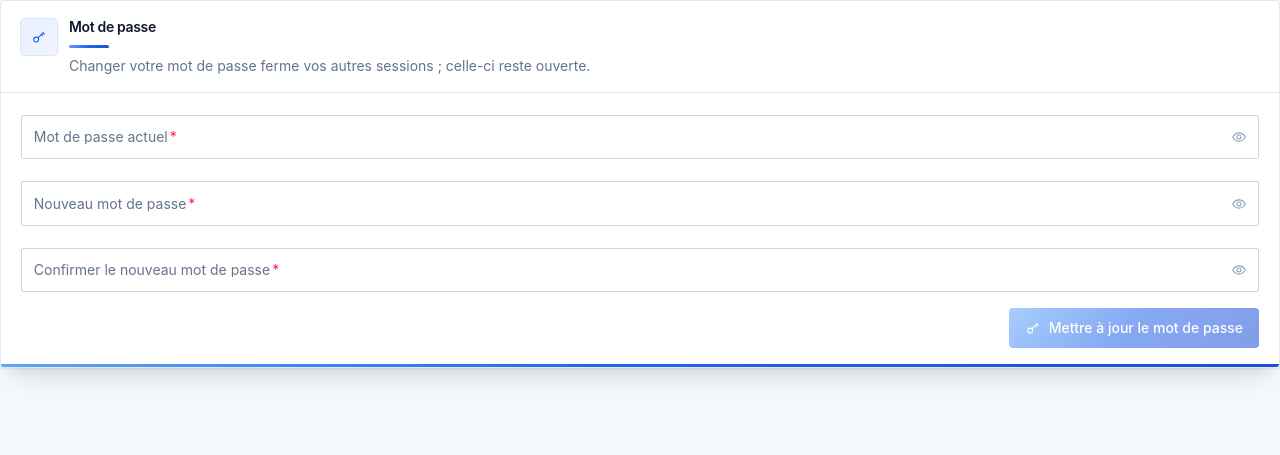
PasswordCard › exige l'ancien mot de passe et la confirmation
In the password field labelled "Mot de passe actuel*": x=640, y=137 [21, 115, 1259, 159], type "ancien-mot-de-passe"
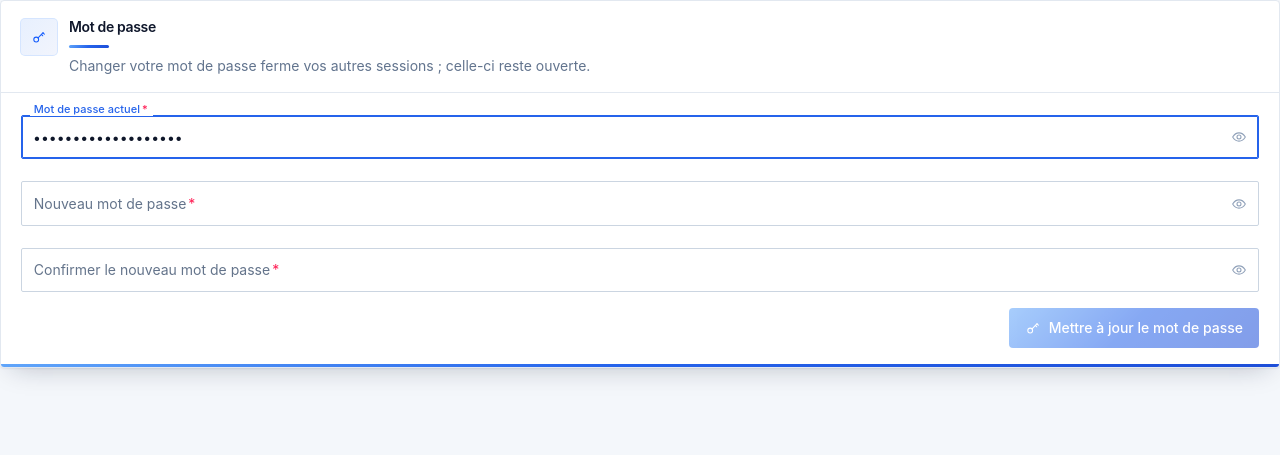
In the password field labelled "Nouveau mot de passe*": x=640, y=204 [21, 182, 1259, 226], type "nouveau-mot-de-passe"
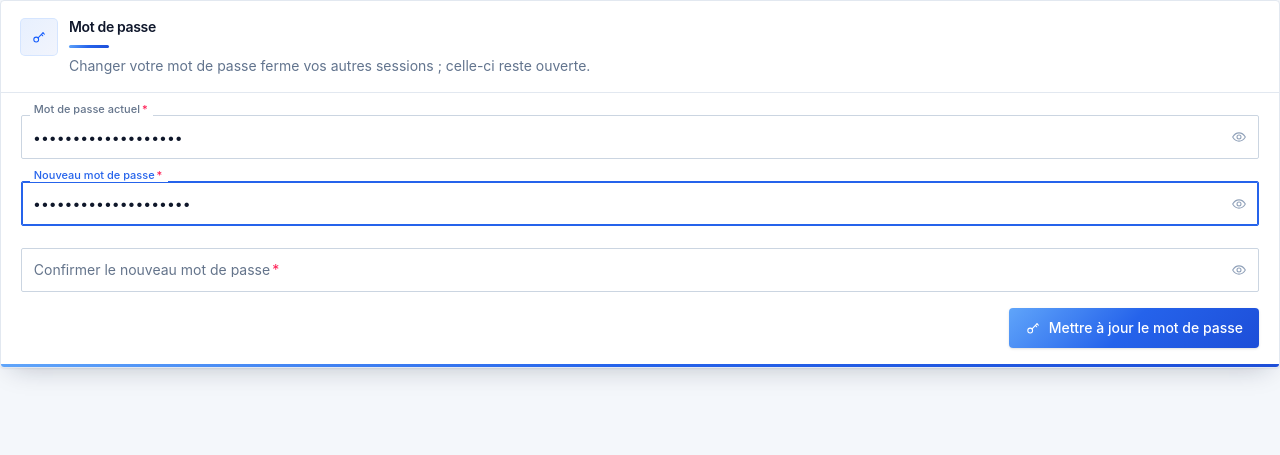
In the password field labelled "Confirmer le nouveau mot de passe*": x=640, y=270 [21, 248, 1259, 292], type "nouveau-mot-de-passe"
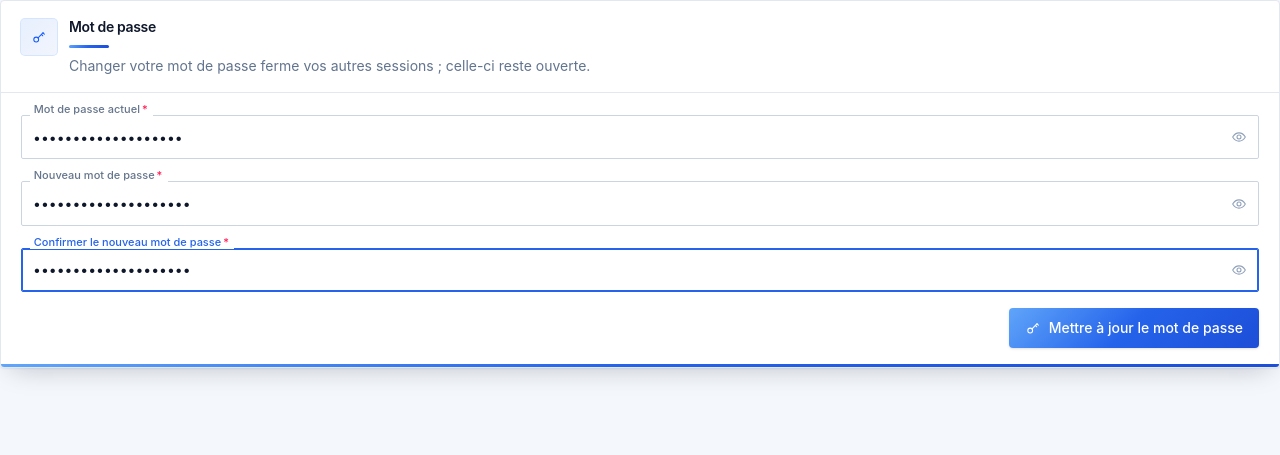
Click the button "Mettre à jour le mot de passe": x=1134, y=328 [1009, 308, 1259, 348]
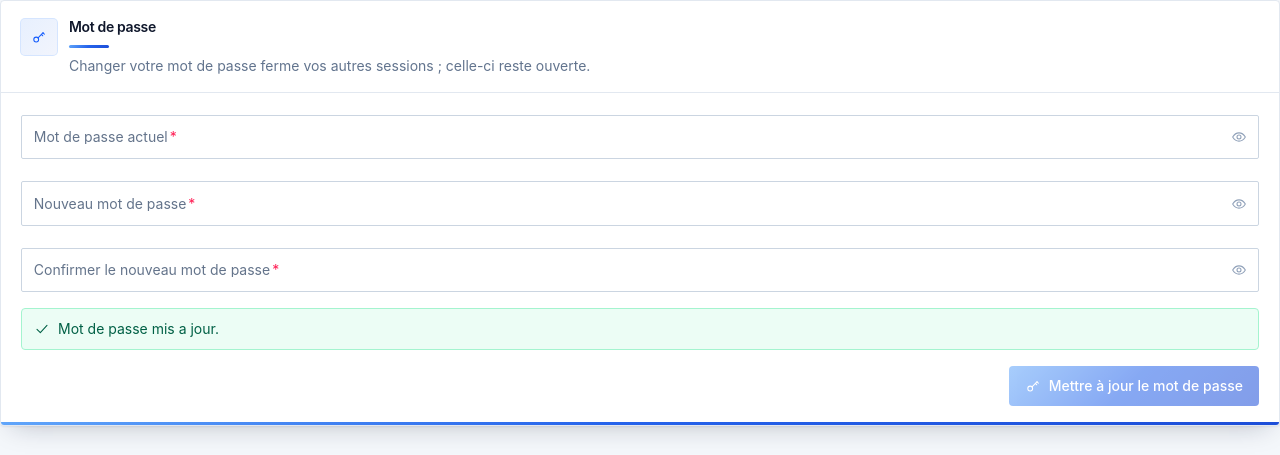
Expected: the text "Mot de passe mis a jour." is shown, [58, 319, 219, 339]
